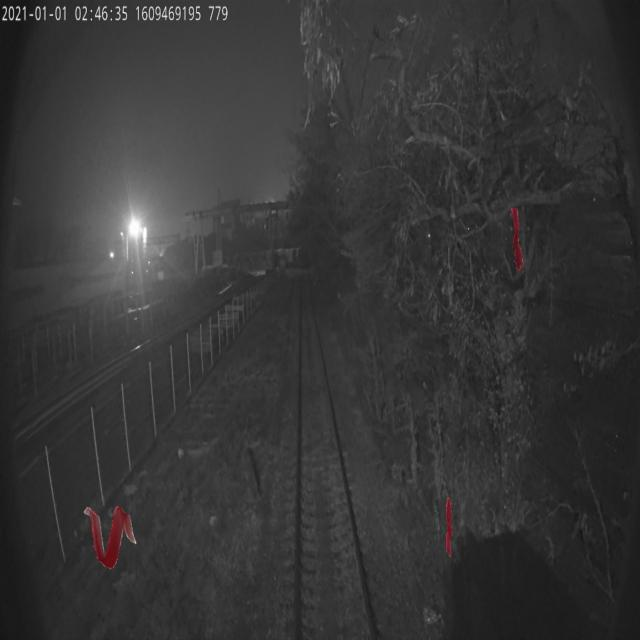floating object: (84, 505, 137, 569), (510, 207, 524, 271), (446, 493, 454, 558)
